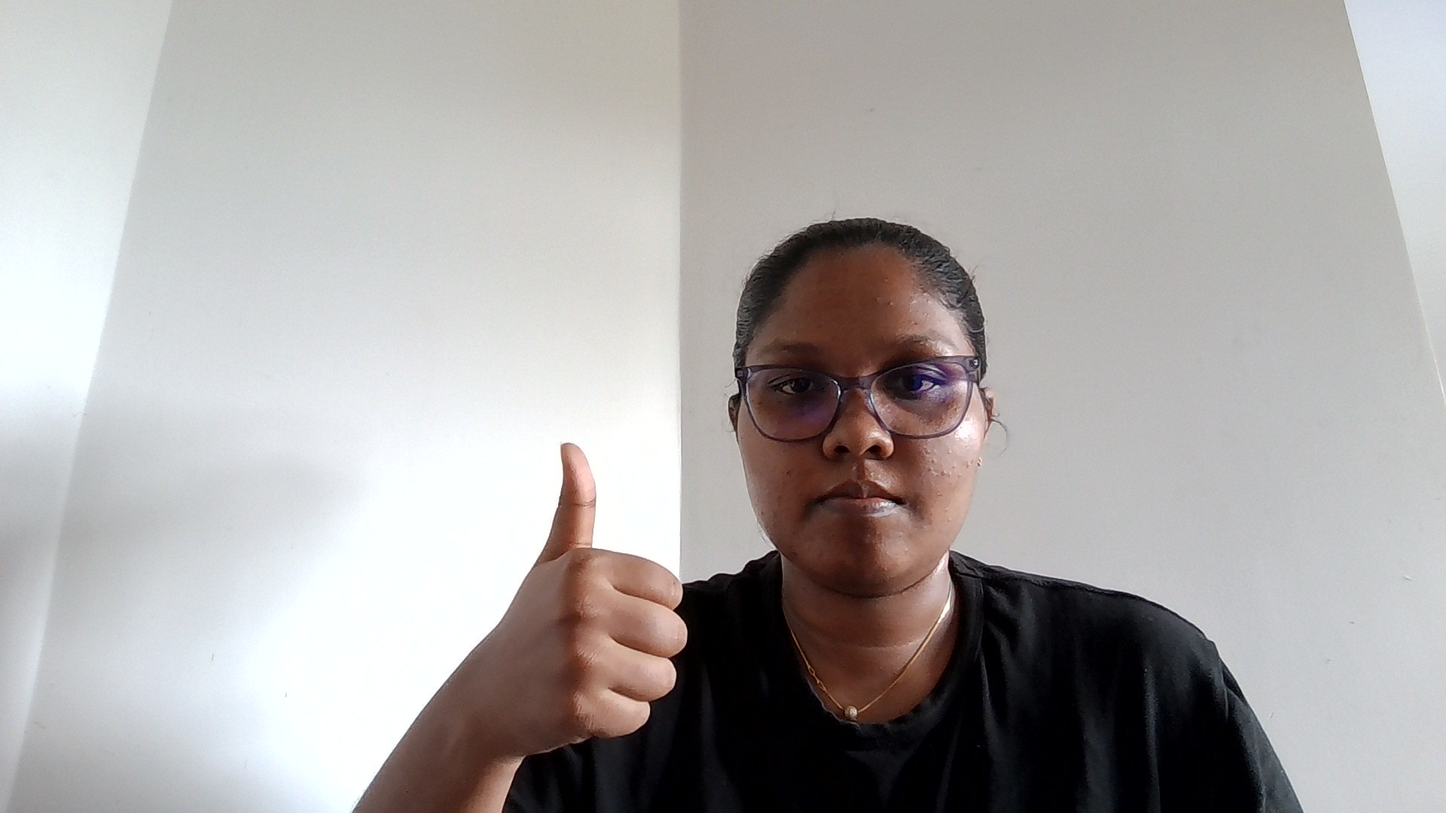Thumbs Up: (395, 386, 768, 764)
